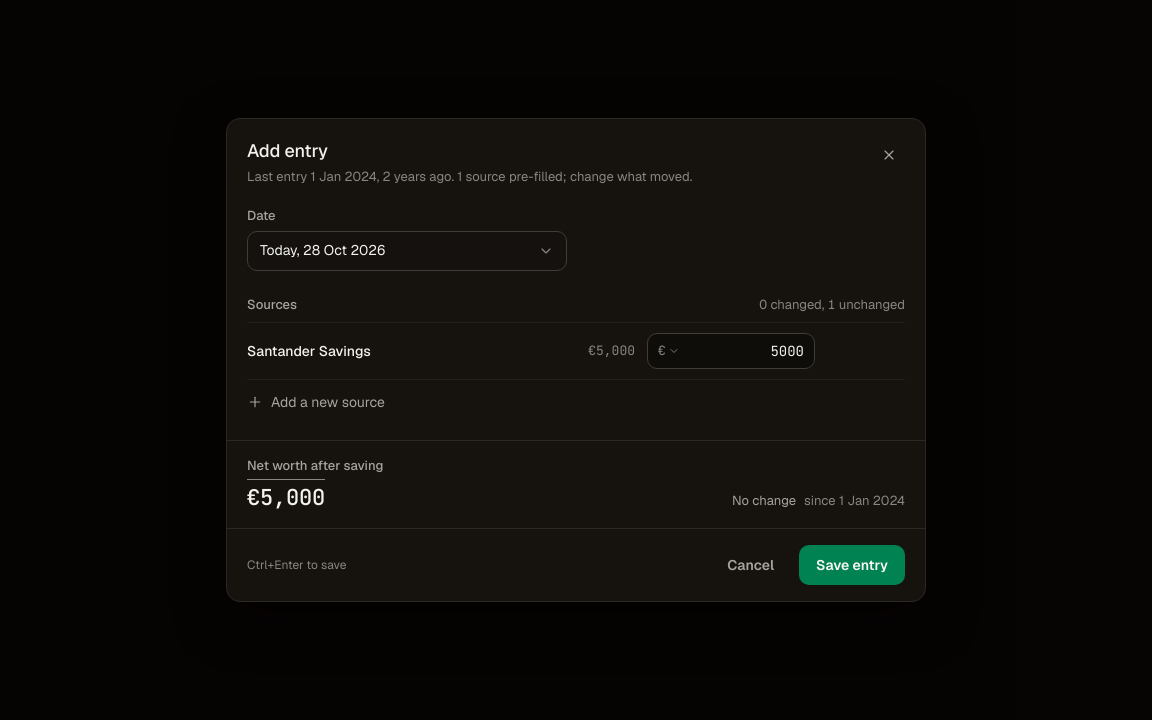
Scenario: AddMeasurementModal — number parsing › treats a non-numeric value as "not entered" and says so on save
Replace the text in the field named "Value for Santander Savings" with "abc": (745, 351) x1=686 y1=340 x2=804 y2=362
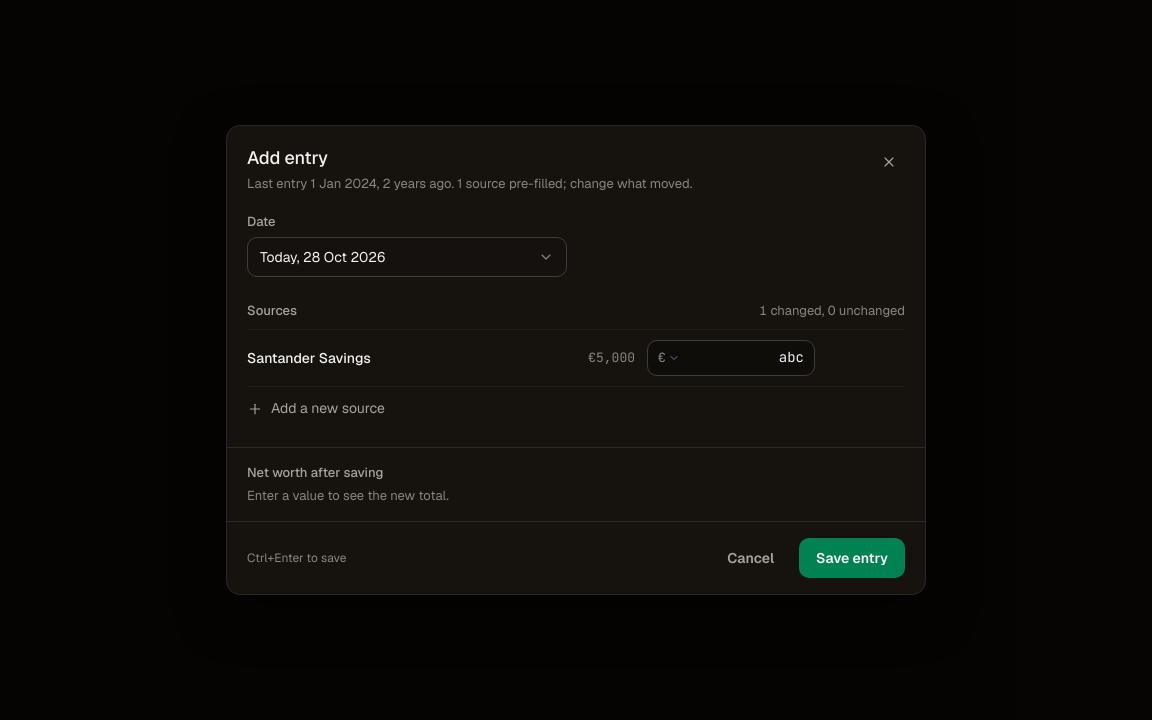
Click the button "Save entry": (852, 558) x1=799 y1=538 x2=905 y2=578
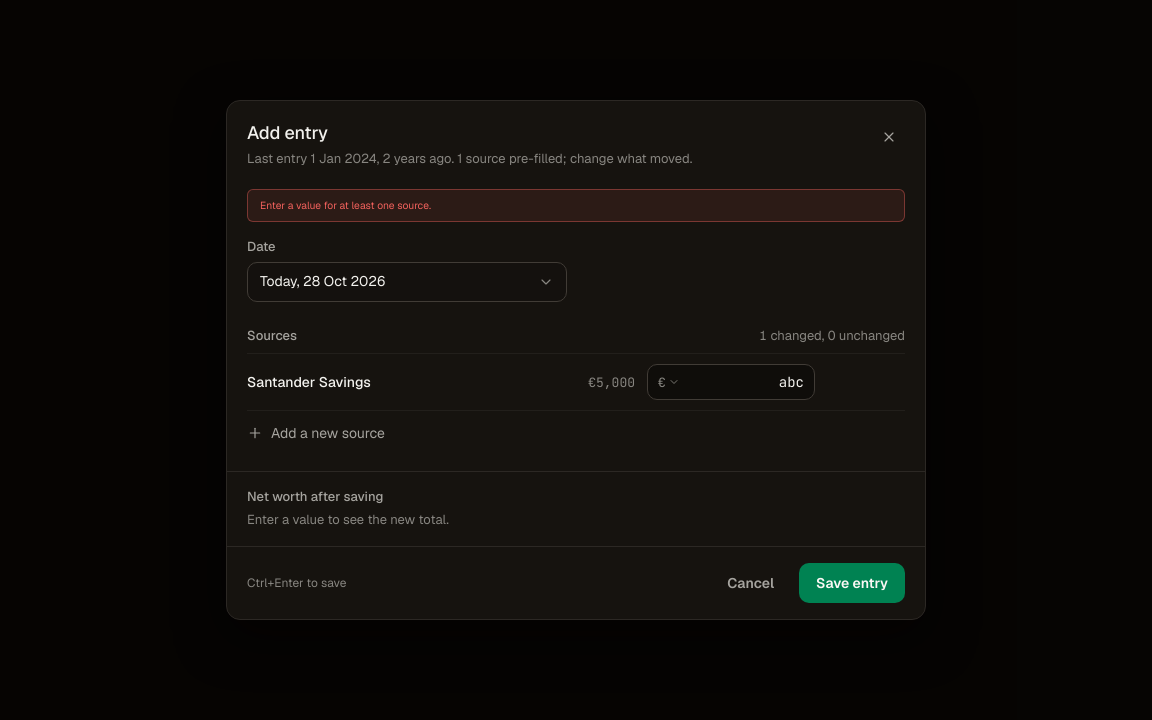
Expected: the message shows "Enter a value for at least one source", x1=260 y1=198 x2=431 y2=212
